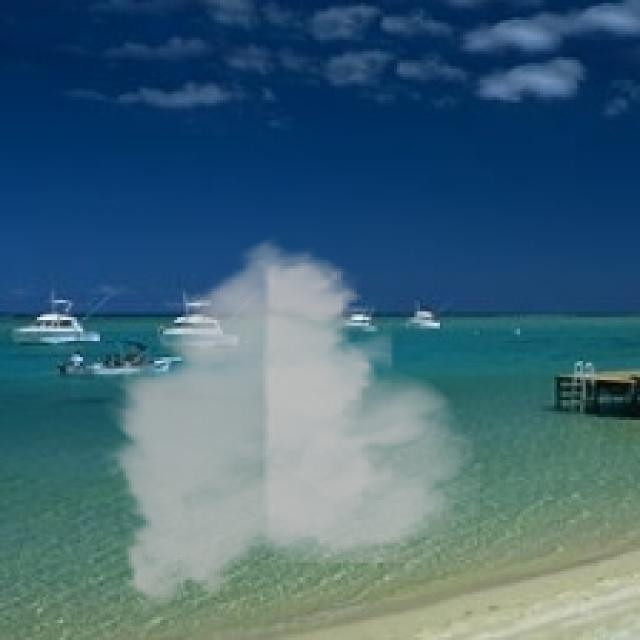Smoke: (100, 228, 480, 623)
